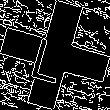L_N: (33, 27, 77, 83)
